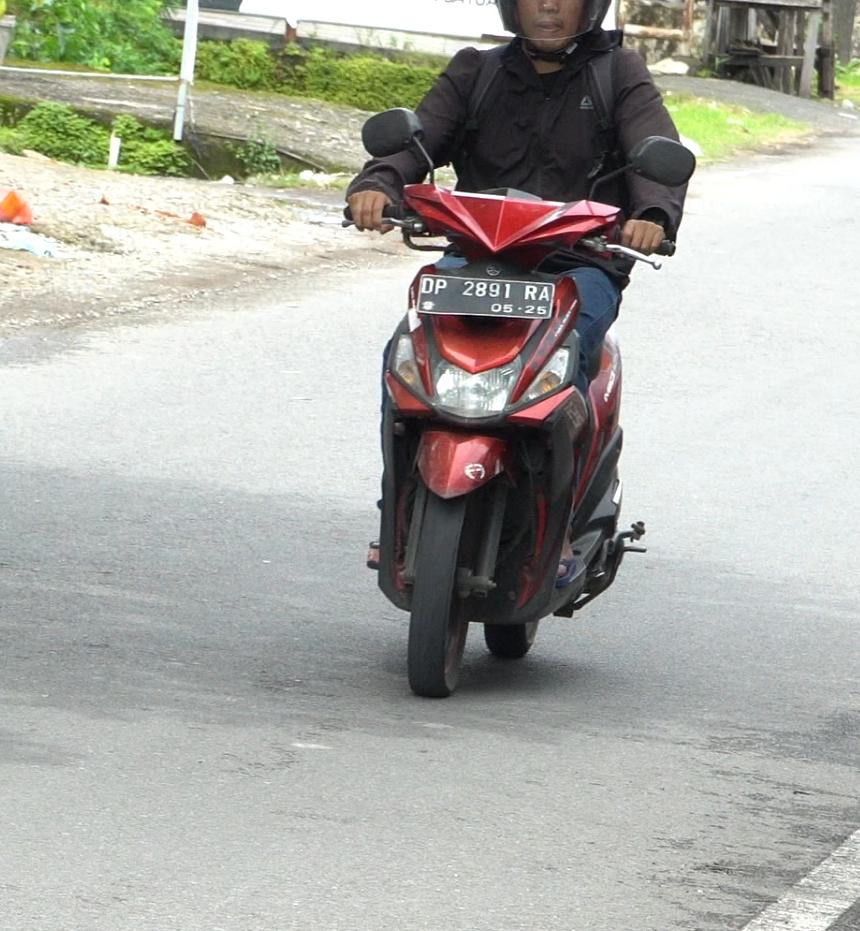number-plate: (414, 268, 569, 327)
